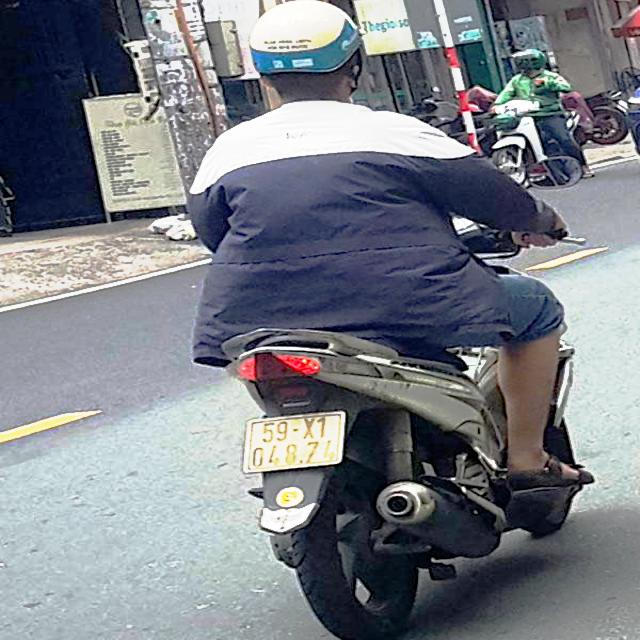license_plate: (249, 413, 344, 474)
